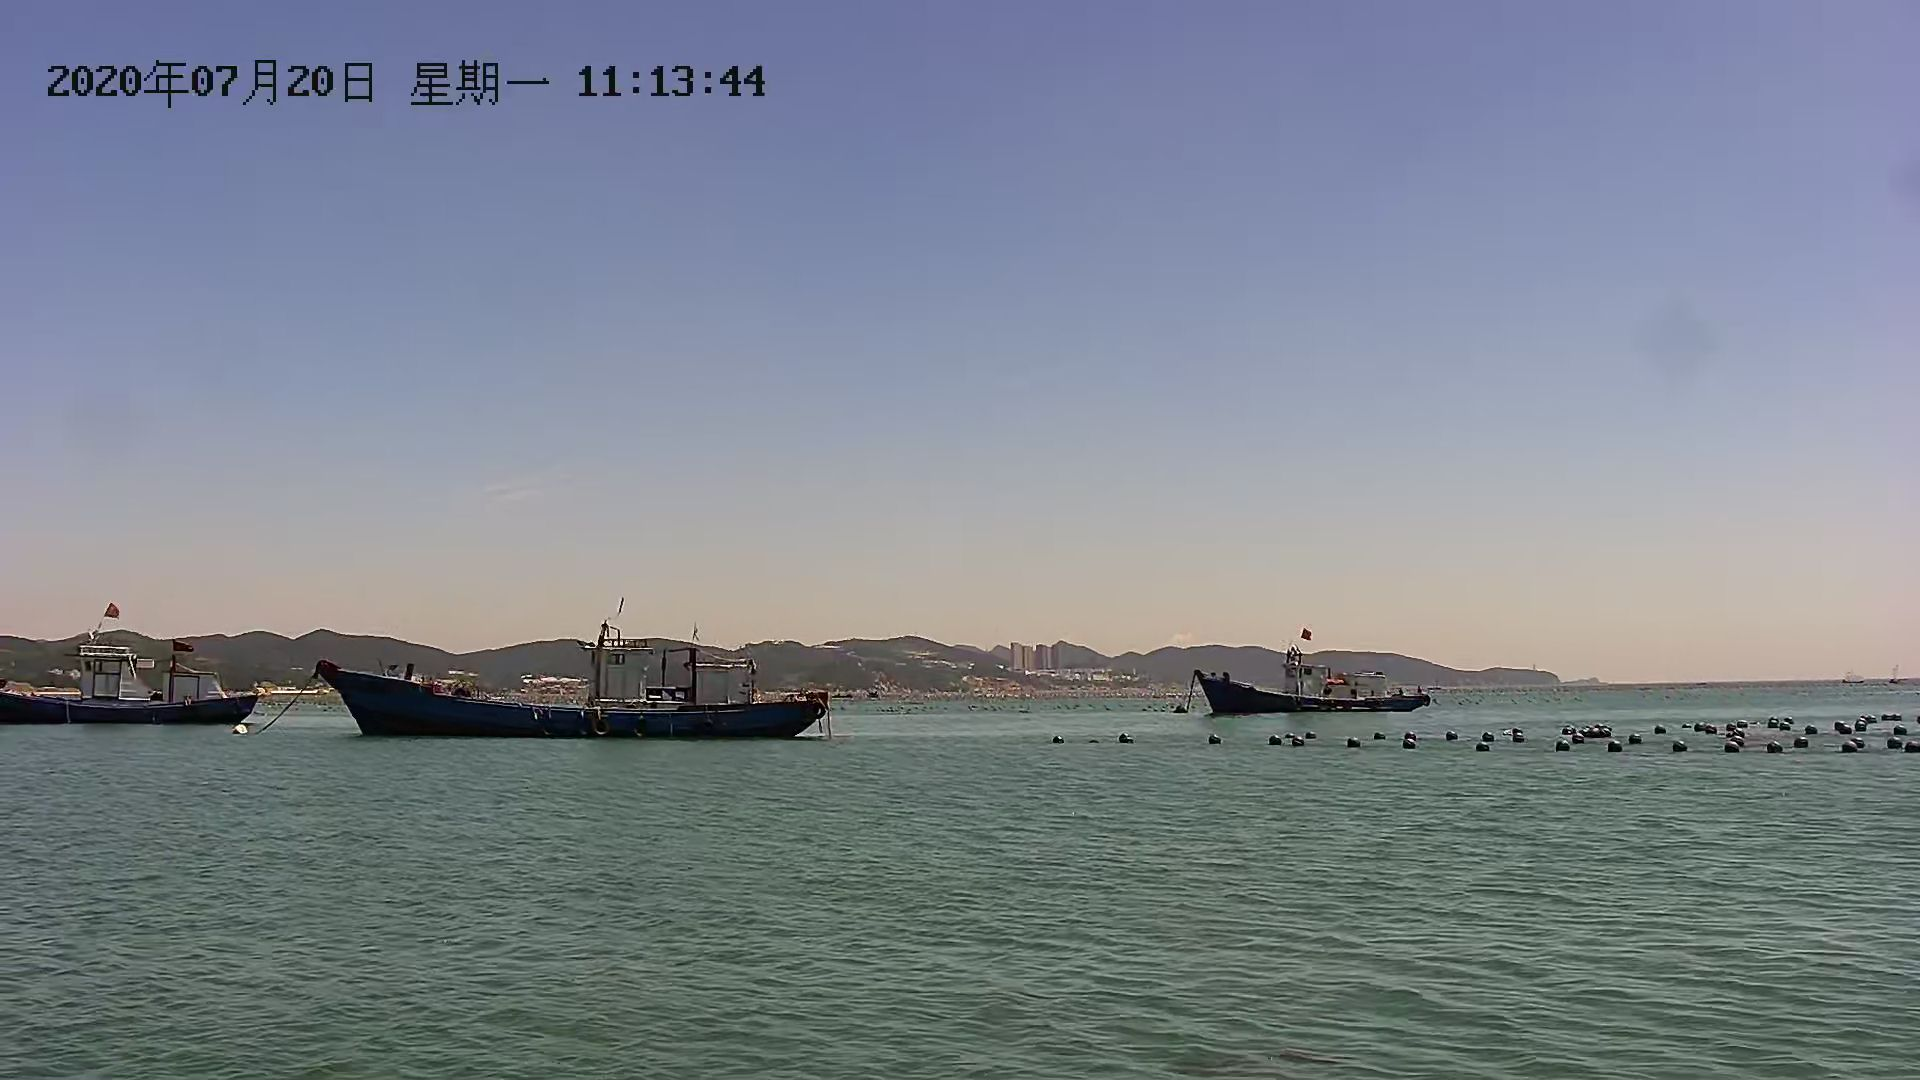boat: (309, 630, 831, 738), (1, 646, 255, 725), (1203, 645, 1429, 717)
